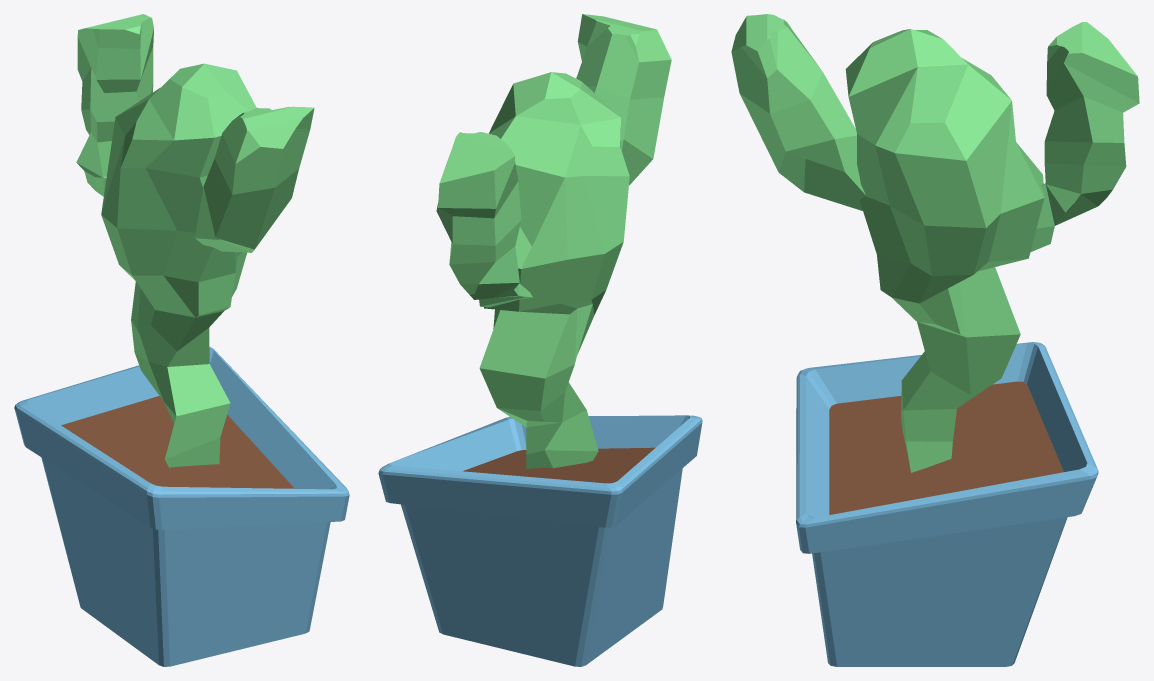
The model's file is Kaktus 1.fbx.
The picture shows the model from 3 angles, left to right: view 1: azimuth 30°, elevation 25°; view 2: azimuth 150°, elevation 25°; view 3: azimuth 270°, elevation 25°; orthographic projection. The views are drawn at different scales.
Visible parts, largest first — view 1: Cube, Cylinder.001, Cylinder.003, Cube.001, Cylinder.002; view 2: Cube, Cylinder.001, Cylinder.002, Cylinder.003, Cube.001; view 3: Cube, Cylinder.001, Cube.001, Cylinder.003, Cylinder.002.
Boxes of the visible parts, x1,y1,x2,y2 form: Cube: (14, 346, 349, 666); Cylinder.001: (101, 63, 256, 467); Cylinder.003: (195, 106, 314, 252); Cube.001: (61, 396, 294, 488); Cylinder.002: (76, 14, 153, 196); Cube: (378, 415, 702, 666); Cylinder.001: (479, 72, 629, 468); Cylinder.002: (436, 132, 532, 307); Cylinder.003: (576, 14, 671, 185); Cube.001: (463, 447, 655, 483); Cube: (796, 342, 1098, 666); Cylinder.001: (845, 29, 1044, 472); Cube.001: (829, 381, 1063, 514); Cylinder.003: (731, 14, 865, 210); Cylinder.002: (1030, 22, 1139, 251).
Bounding box in the file's own units: 32.36 × 76.21 × 46.89.
